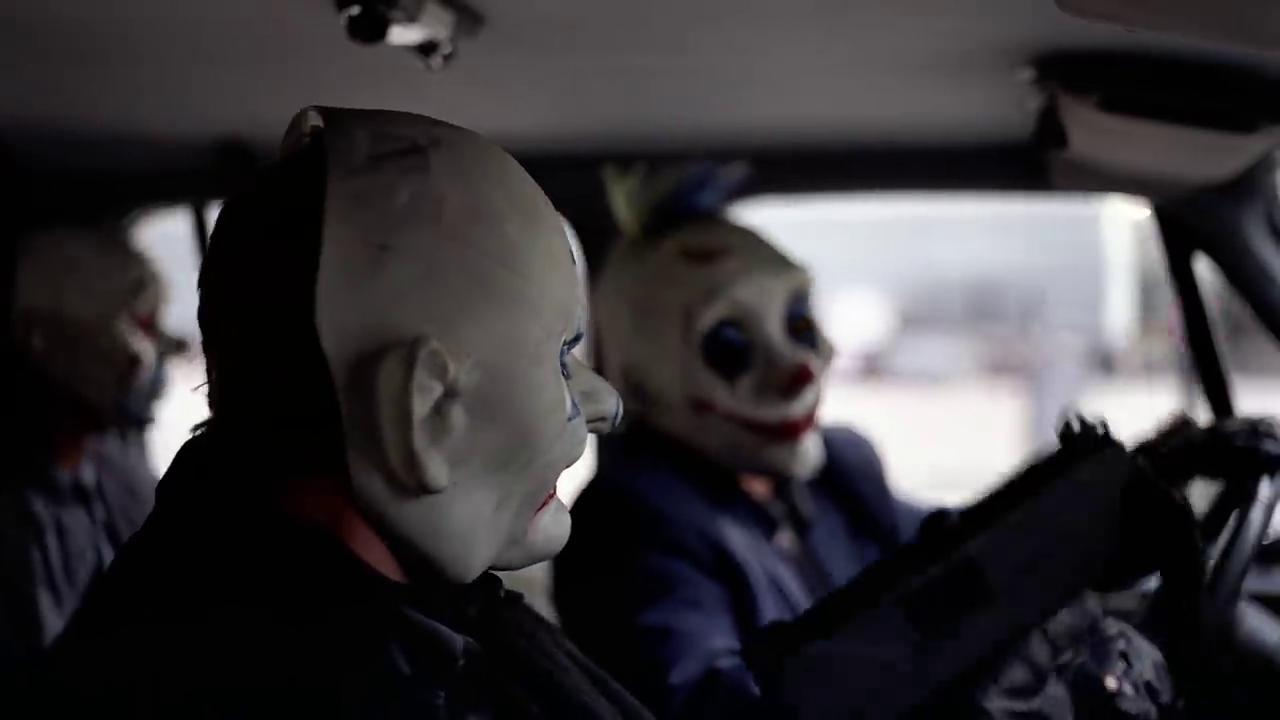gun: (757, 410, 1216, 720)
